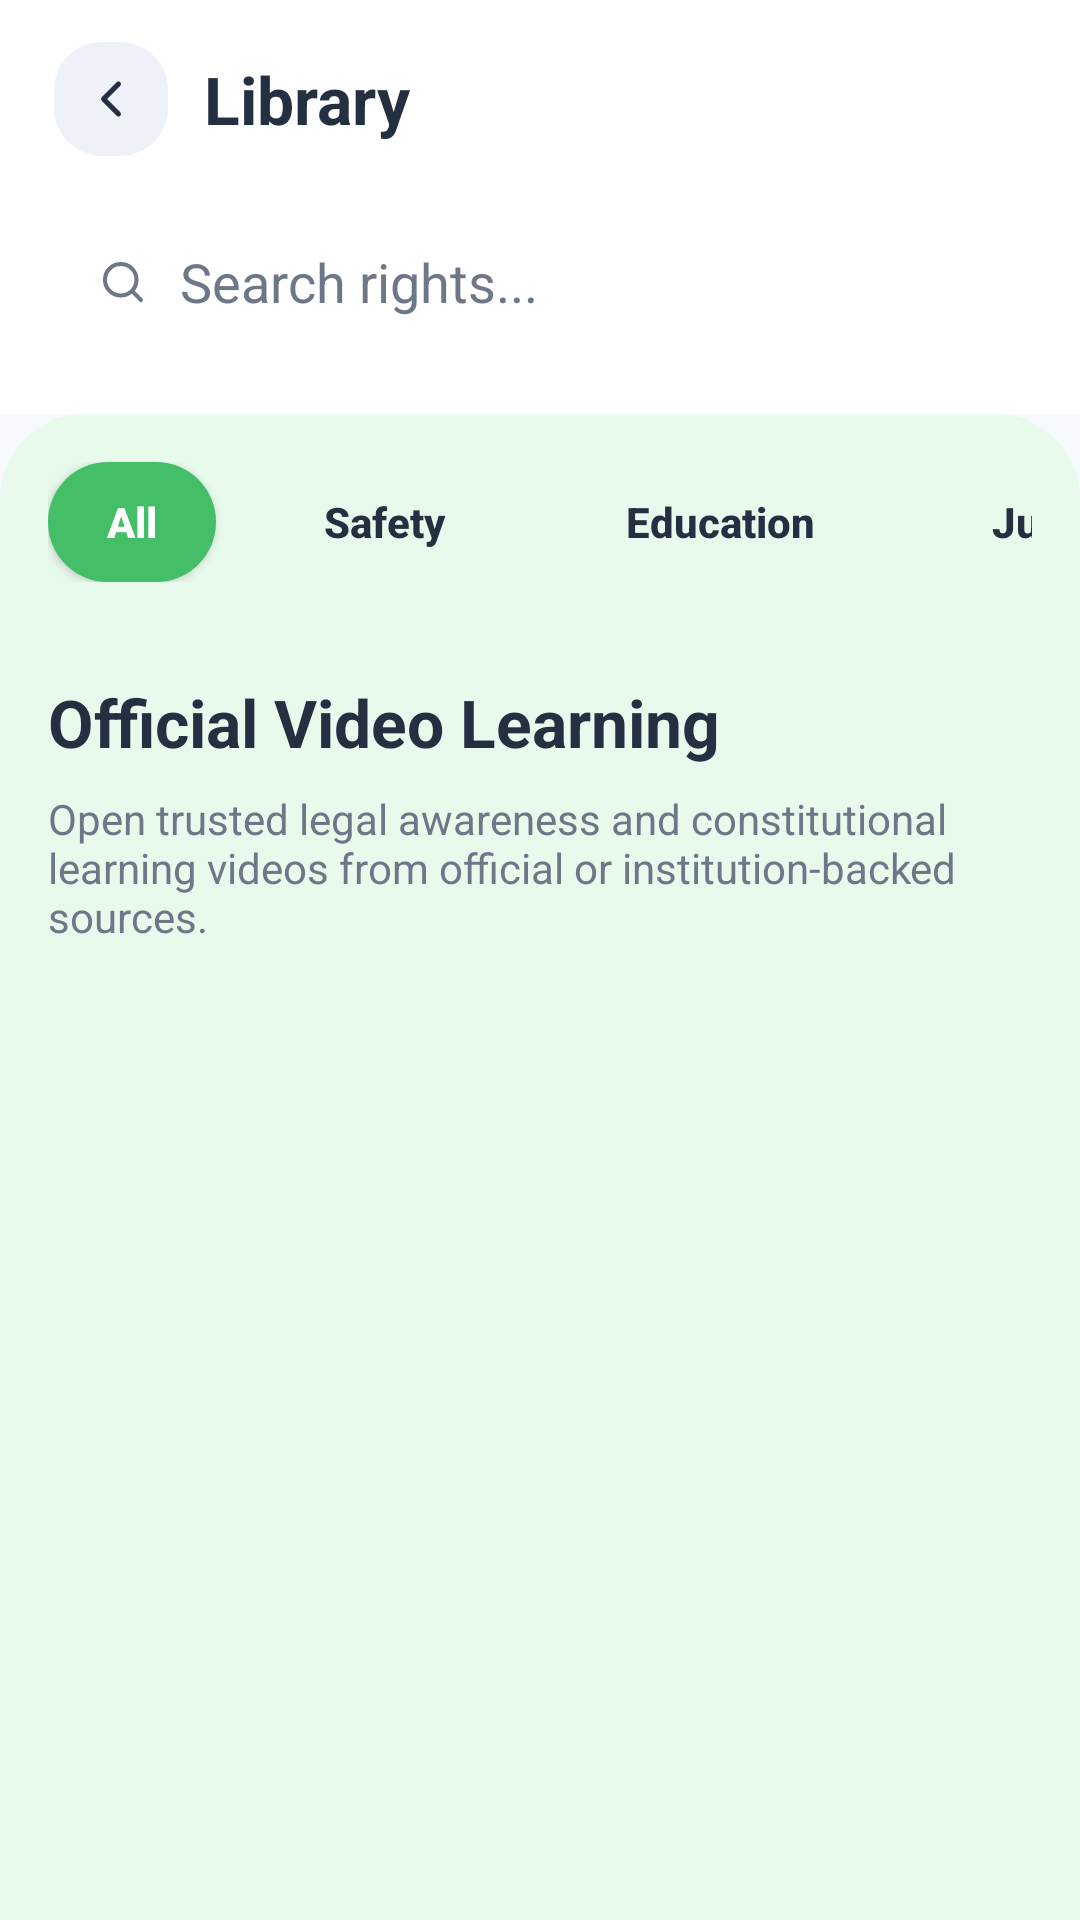

Named icons in this screenshot (1080 × 1920) and their bounding boxes, (x1, y1, x2, y2):
back: (101, 81, 121, 117)
